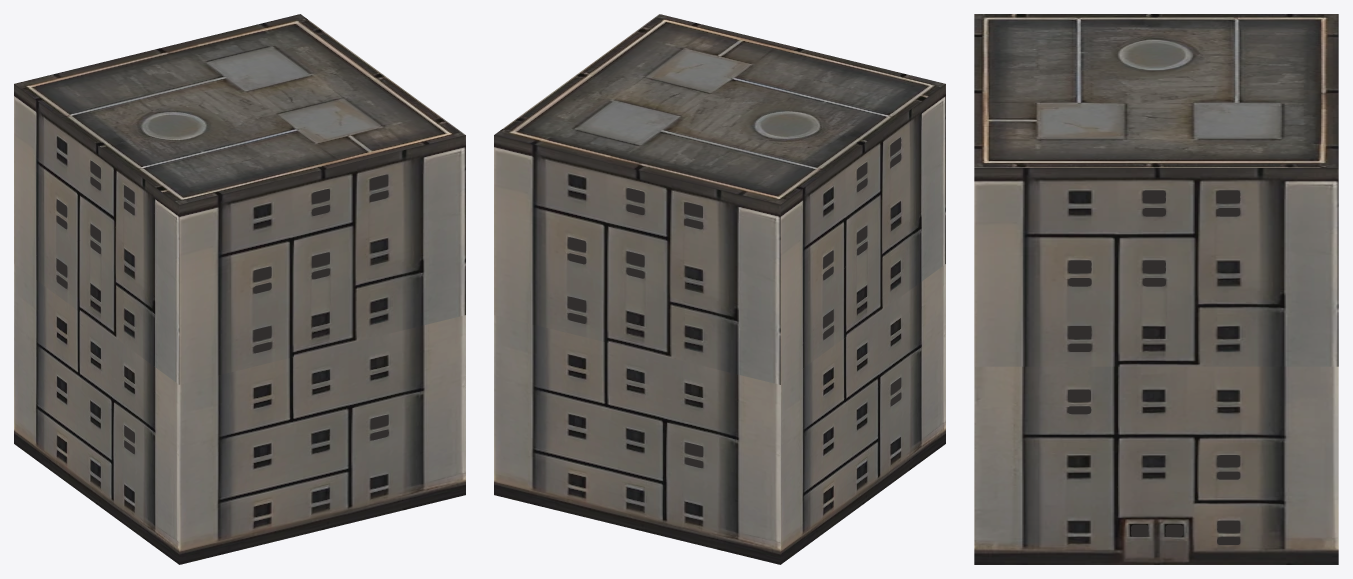
File: city6storya_hdtex.glb
3 views of the same model, side by side, from view 1: azimuth 30°, elevation 25°; view 2: azimuth 150°, elevation 25°; view 3: azimuth 270°, elevation 25° (orthographic). The views are drawn at different scales.
Parts seen in each view (by area): view 1: CityBlock8Story_A01, LitWin_City6Story; view 2: CityBlock8Story_A01, LitWin_City6Story; view 3: CityBlock8Story_A01, LitWin_City6Story.
Boxes of the visible parts, x1,y1,x2,y2 form: CityBlock8Story_A01: [14, 14, 465, 564]; LitWin_City6Story: [56, 161, 388, 453]; CityBlock8Story_A01: [494, 14, 945, 564]; LitWin_City6Story: [568, 137, 901, 467]; CityBlock8Story_A01: [974, 14, 1338, 564]; LitWin_City6Story: [1067, 190, 1240, 544].
Size of the model in its own units: 17.76 by 21.34 by 17.76.
Materials: 1 (1 with a texture image).
